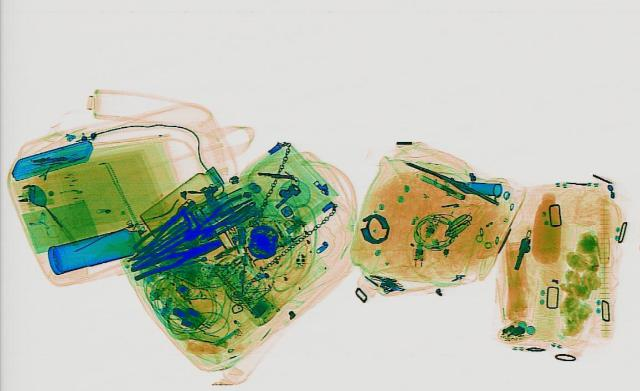Pliers: (121, 236, 227, 279), (172, 194, 258, 243), (128, 204, 196, 251)
